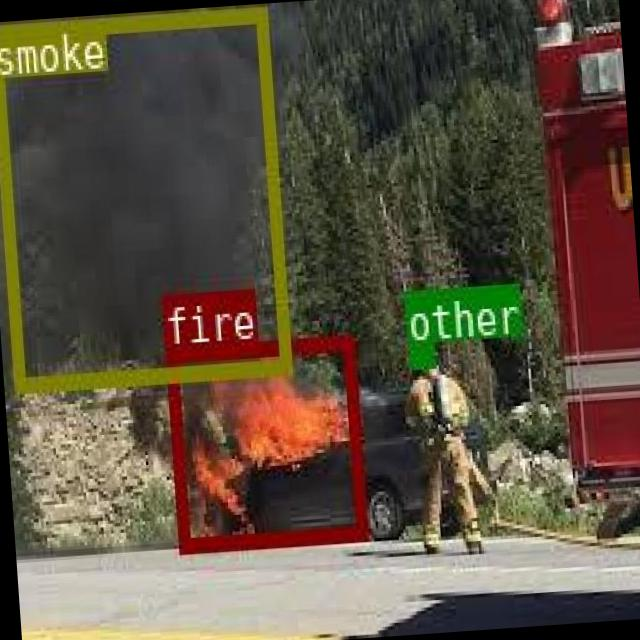fire: (163, 332, 364, 552)
smoke: (0, 6, 289, 391)
